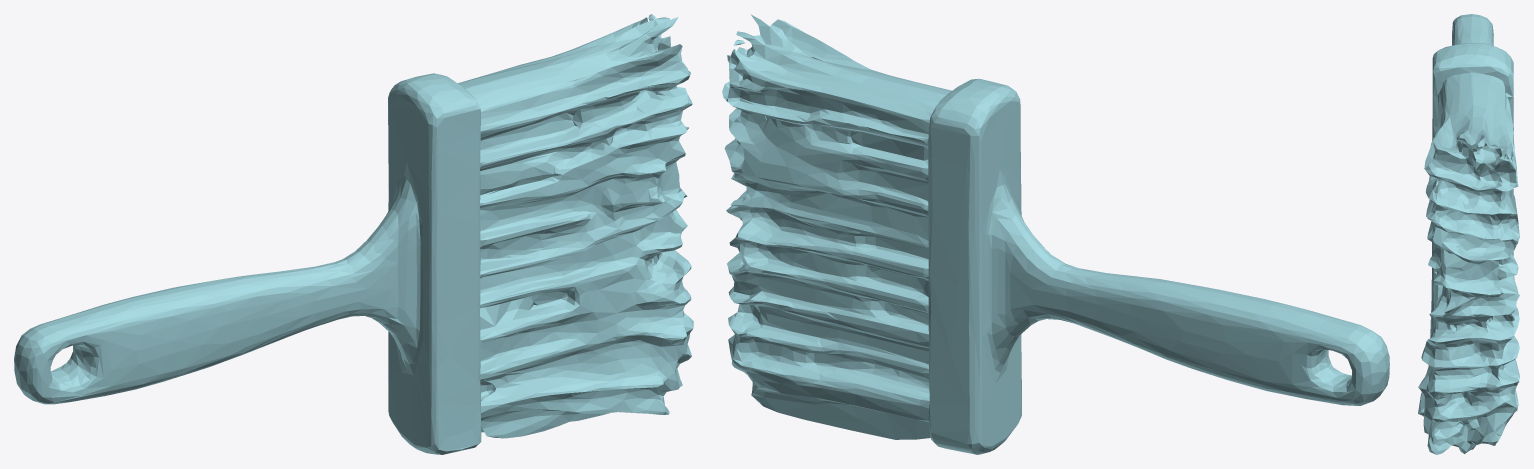
Rendered from anvil_brush.obj.
The picture shows the model from 3 angles, left to right: view 1: azimuth 30°, elevation 25°; view 2: azimuth 150°, elevation 25°; view 3: azimuth 270°, elevation 25°; orthographic projection. The views are drawn at different scales.
Bounding box in the file's own units: 0.2997 × 0.1658 × 0.0468.
